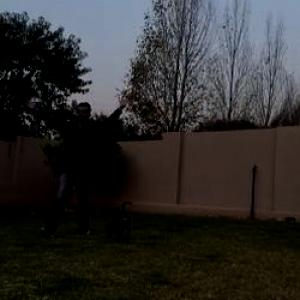takeoff: (36, 106, 134, 232)
